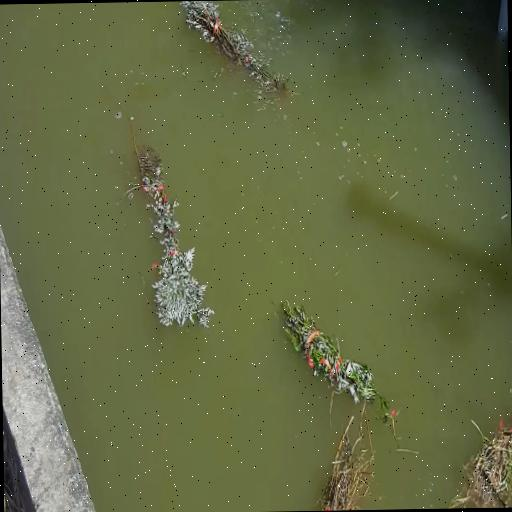twig: (126, 112, 216, 330), (280, 296, 391, 414), (177, 0, 296, 96), (314, 377, 376, 511), (446, 415, 512, 508)
